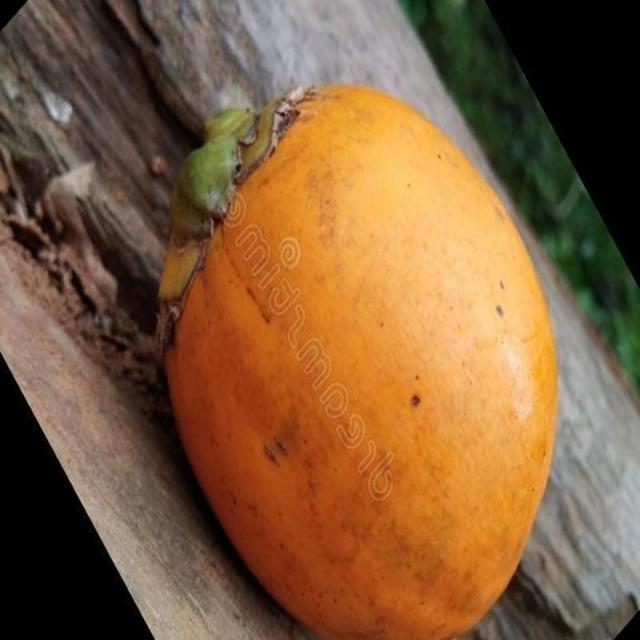good: (160, 85, 562, 639)
